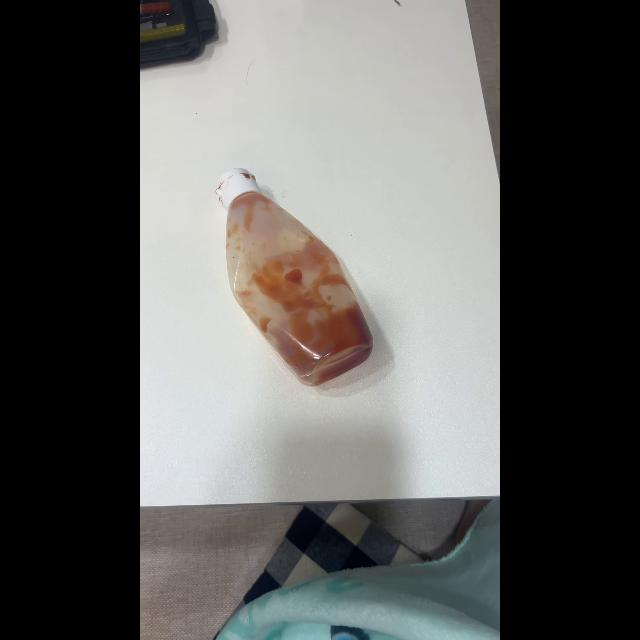dirty: (225, 173, 373, 383)
